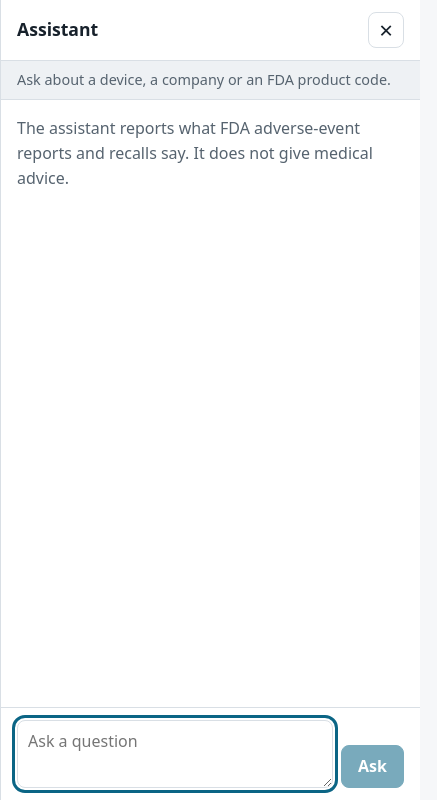
statuses from /api/answer (handover §5) › not_found: the text and a link to the search page
The width and height of the screenshot is (437, 800).
Type "Recalls for xyz" into the text box named "Your question" at (175, 754), box [17,720,333,788]
Then press Enter
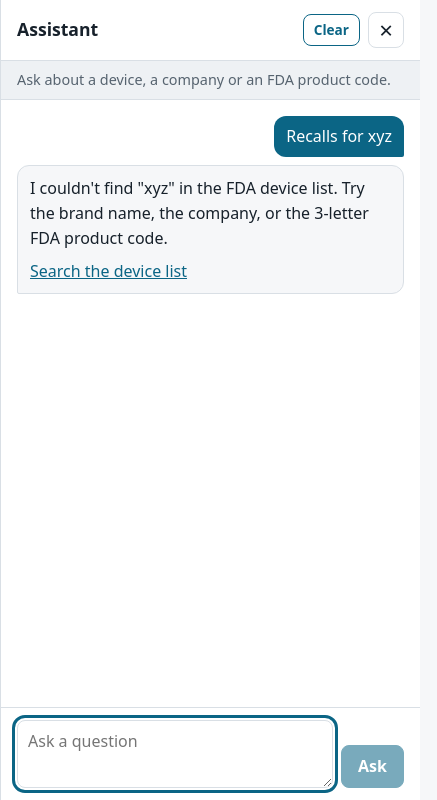
Expected: the element with class "reply" shows "couldn't find", [30,177,369,249]
